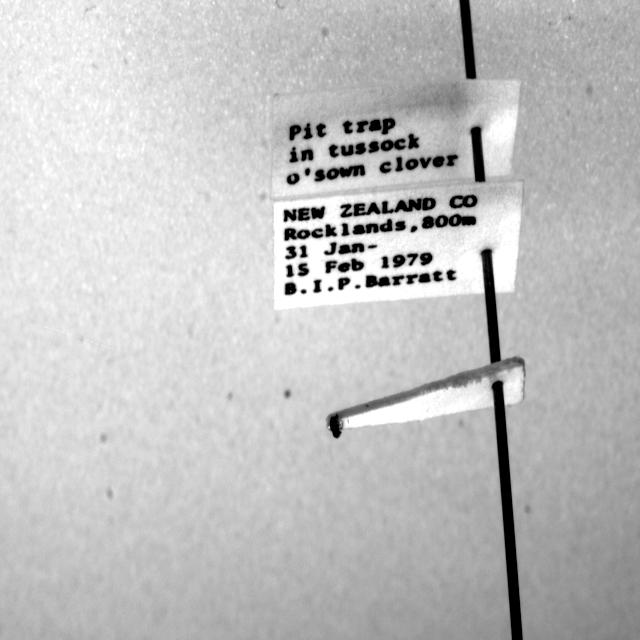typed_label: (274, 182, 522, 309), (272, 81, 520, 199)
